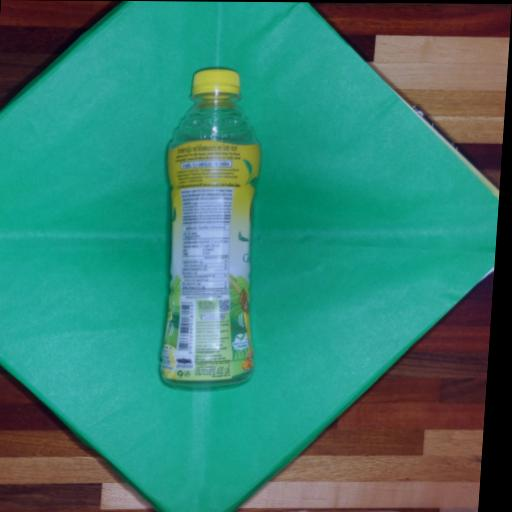bottle: (129, 64, 292, 404)
